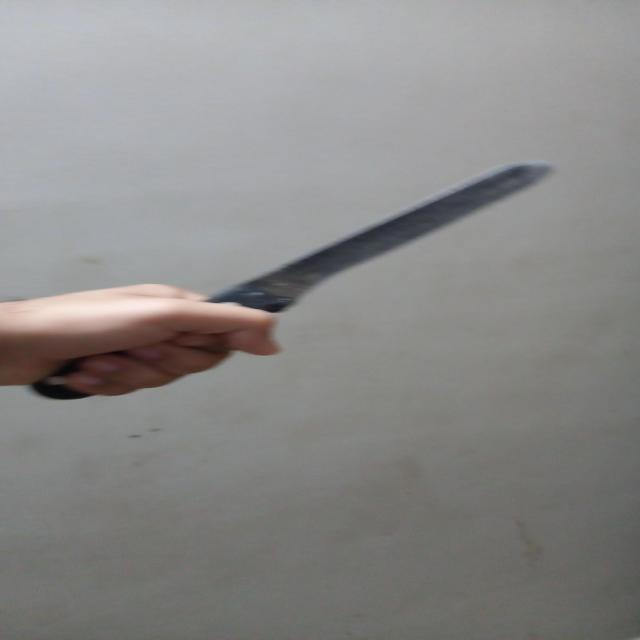Knife: (31, 162, 560, 400)
Person: (0, 284, 285, 397)
